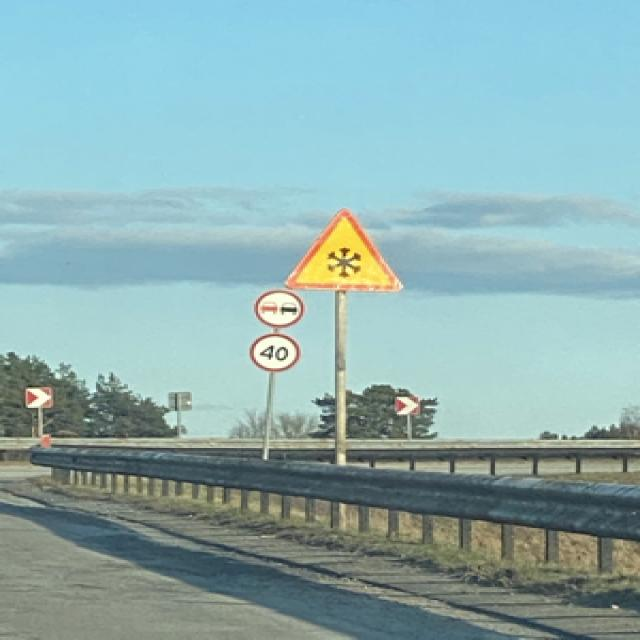speedlimit: (245, 333, 299, 373)
